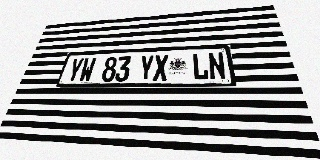3: (114, 56, 132, 81)
8: (101, 57, 118, 82)
L: (192, 53, 209, 80)
N: (208, 52, 227, 80)
W: (78, 57, 97, 82)
X: (153, 54, 168, 81)
Y: (65, 58, 85, 82), (138, 55, 154, 81)
